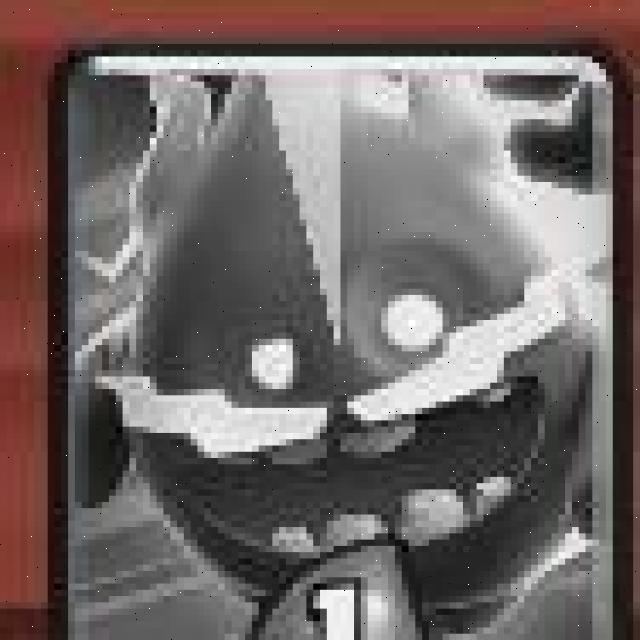Electro_Spirit: (49, 42, 630, 640)
